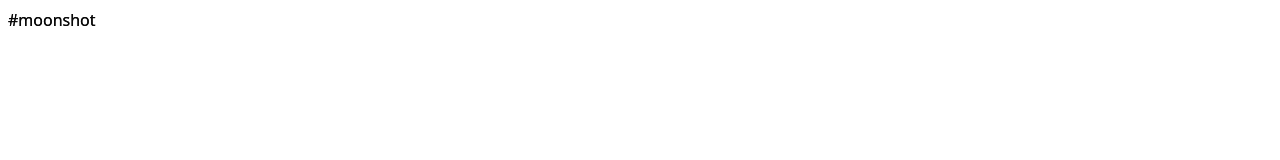
Scenario: EnhancedHighlightedInput › Create options › shows create project option when no matching project exists
Clear the dropdown. click: (640, 20)
box: x1=0 y1=0 x2=1279 y2=40
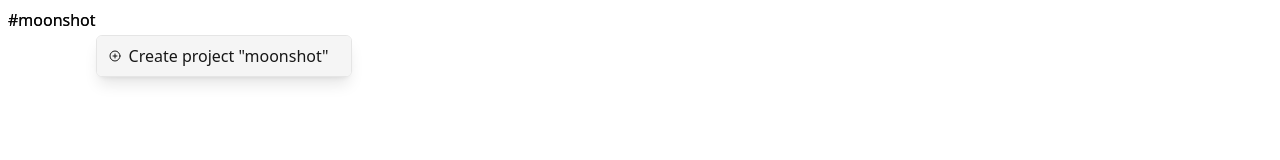
Result: the text "Create project \"moonshot\"" is shown at x1=128 y1=44 x2=329 y2=68
